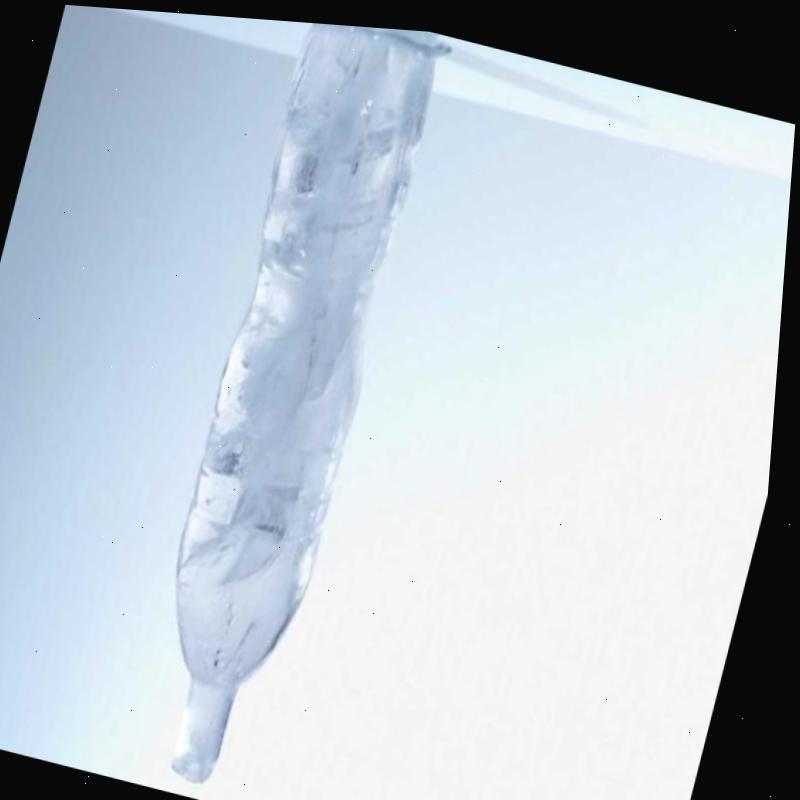botella: (128, 10, 449, 800)
